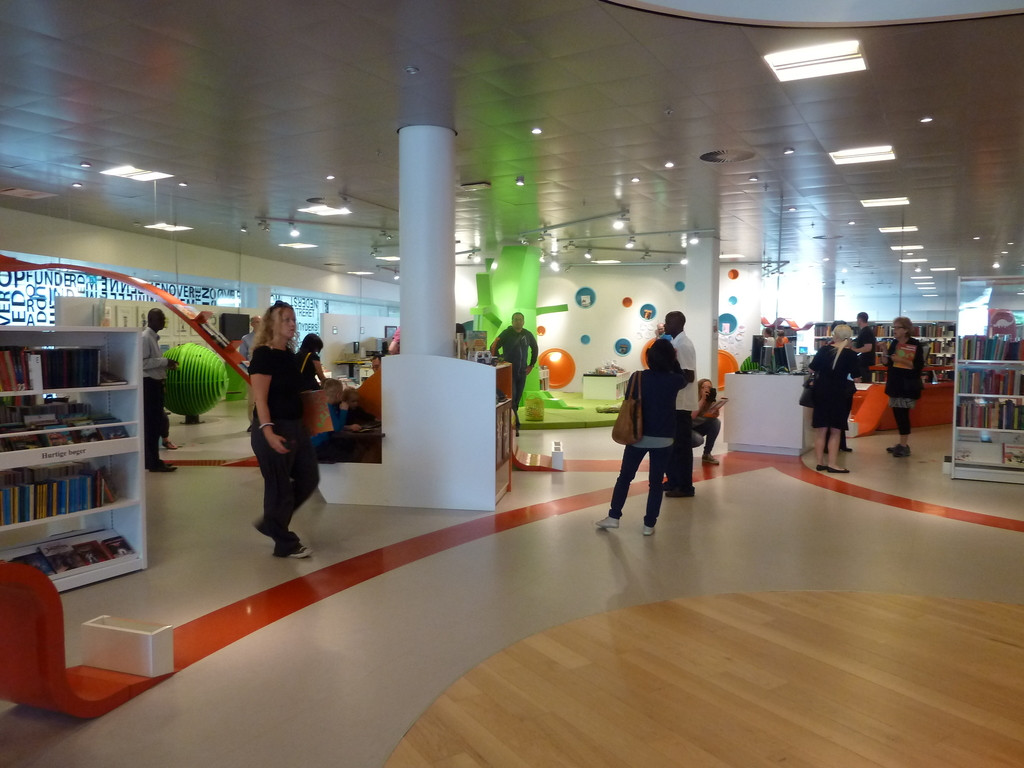Person: (247, 298, 319, 559), (594, 338, 689, 534), (649, 308, 696, 497), (808, 323, 861, 475), (138, 307, 181, 472), (877, 315, 922, 457), (490, 310, 538, 436), (823, 319, 854, 454), (690, 377, 720, 466), (239, 314, 260, 430), (851, 311, 877, 381), (294, 331, 324, 391), (345, 389, 380, 431), (323, 375, 347, 430), (157, 408, 177, 451), (652, 322, 673, 341), (370, 351, 385, 375), (387, 326, 399, 353), (764, 326, 774, 347), (777, 330, 788, 348)
